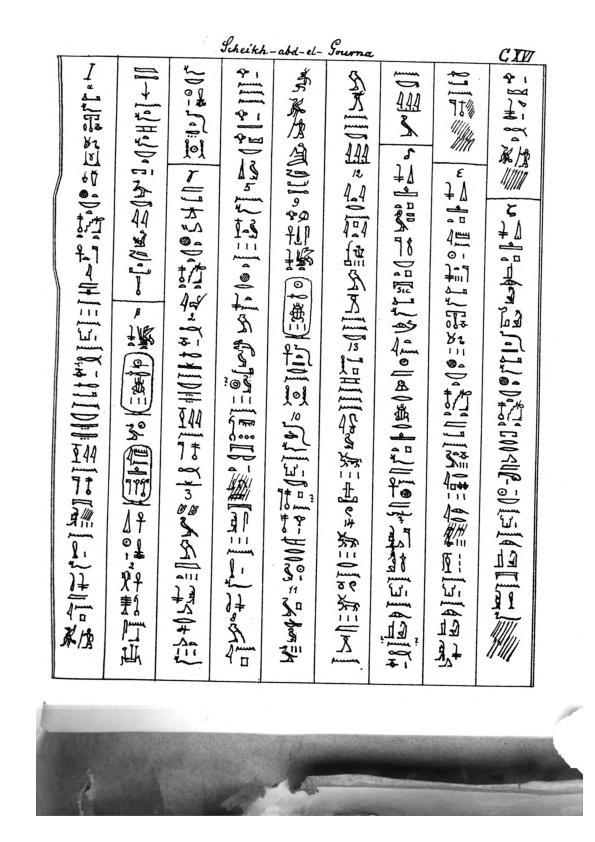circle: (119, 351, 156, 417), (120, 442, 155, 510), (280, 274, 314, 341)
